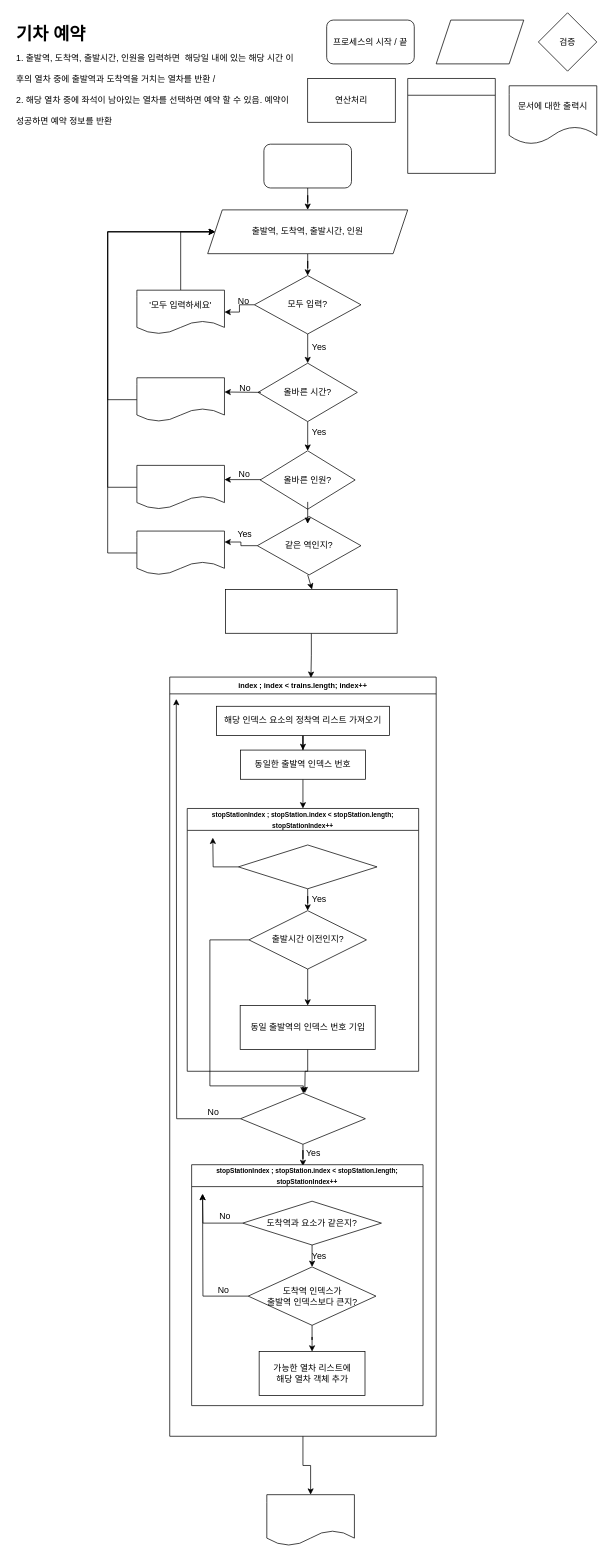
Image size: 610x1559. Some labels were removed from this diagram. Here are the shapes that lost their labels. From the top down, the centre of each, then its label:
At (x=479, y=41): "데이터 입출력".
At (x=451, y=125): "반복문".
At (x=307, y=165): "시작".
At (x=180, y=399): "'잘못된 시간입니다'".
At (x=180, y=487): "'잘못된 인원입니다'".
At (x=180, y=552): "출발역이 도착역이 같습니다".
At (x=311, y=611): "가능한 열차정보를 저장할 리스트 생성".
At (x=307, y=866): "출발역과 요소가 같은지?".
At (x=302, y=1118): "동일한 출발역이 저장 됐는지?".
At (x=310, y=1520): "가능한 열차 리스트".
